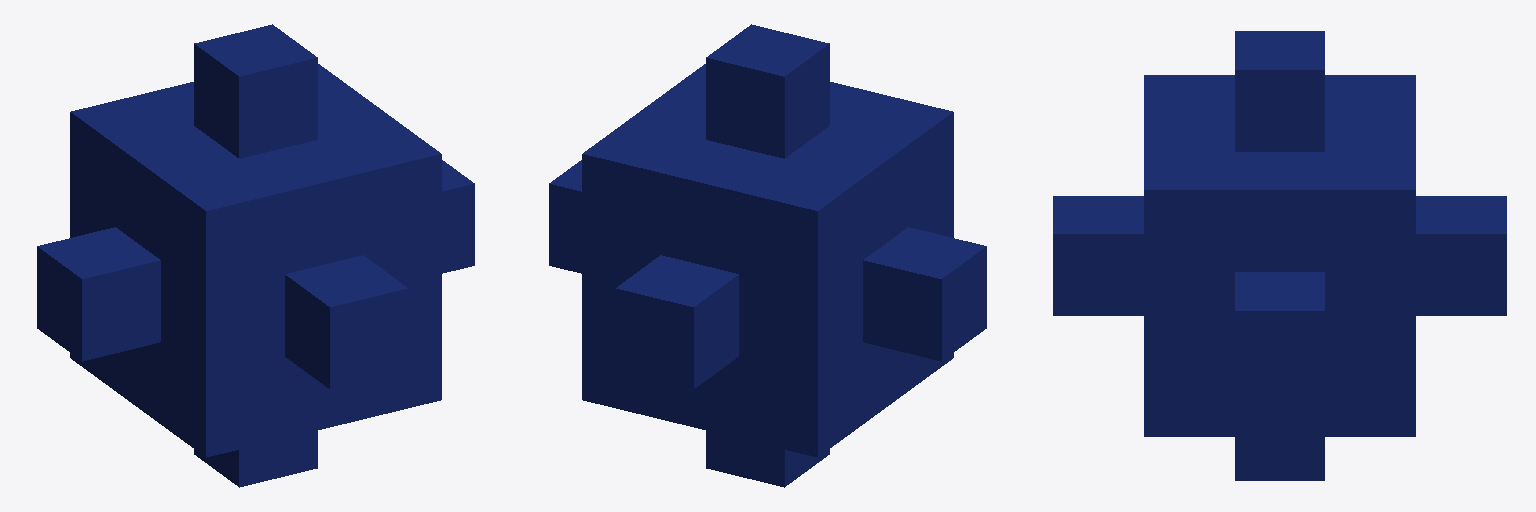
File: outside_ball_cube_1.obj
The picture shows the model from 3 angles: view 1: azimuth 30°, elevation 25°; view 2: azimuth 150°, elevation 25°; view 3: azimuth 270°, elevation 25°; orthographic projection.
Visible parts, largest first — view 1: Outside_ball_cube.001; view 2: Outside_ball_cube.001; view 3: Outside_ball_cube.001.
Boxes of the visible parts, x1,y1,x2,y2 form: Outside_ball_cube.001: [37, 24, 474, 487]; Outside_ball_cube.001: [549, 24, 986, 487]; Outside_ball_cube.001: [1053, 31, 1506, 480].
Size of the model in its own units: 0.2 by 0.2 by 0.2.